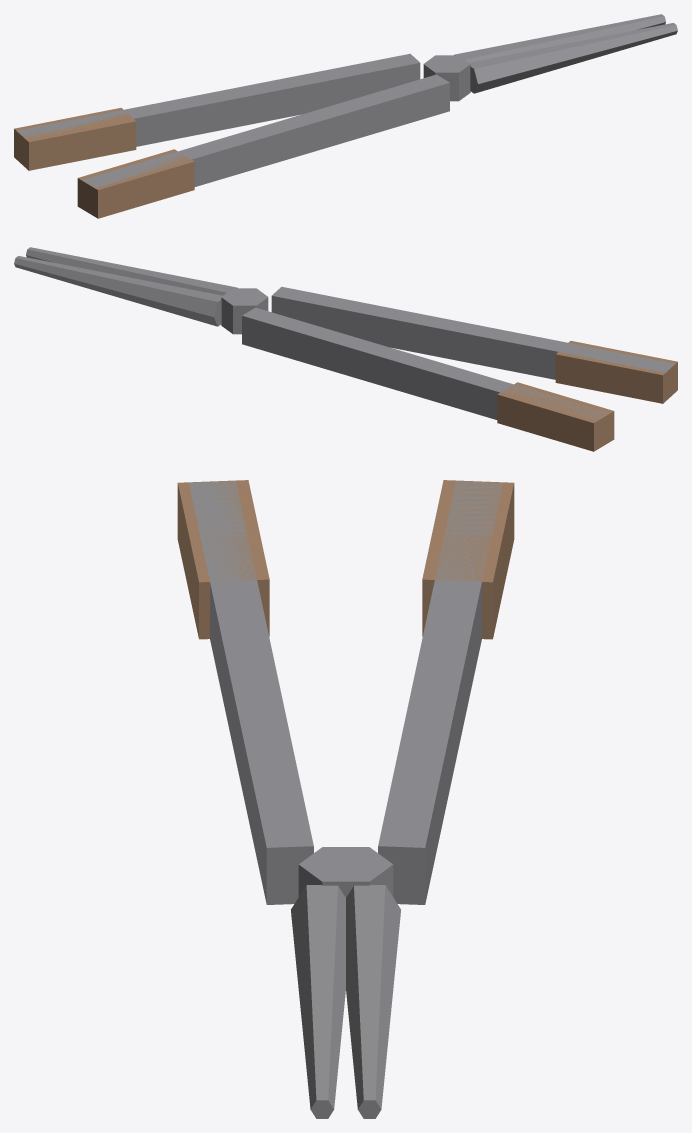
Rendered from prop-pliers-mail-mm1.fbx.
The picture shows the model from 3 angles, top to bottom: view 1: azimuth 30°, elevation 25°; view 2: azimuth 150°, elevation 25°; view 3: azimuth 270°, elevation 25°; orthographic projection. The views are drawn at different scales.
Parts seen in each view (by area): view 1: prop-pliers-mail-mm1; view 2: prop-pliers-mail-mm1; view 3: prop-pliers-mail-mm1.
Boxes of the visible parts, x1,y1,x2,y2 form: prop-pliers-mail-mm1: [14, 14, 677, 218]; prop-pliers-mail-mm1: [14, 247, 677, 451]; prop-pliers-mail-mm1: [177, 480, 514, 1118].
Size of the model in its own units: 18.03 by 0.8 by 4.27.
